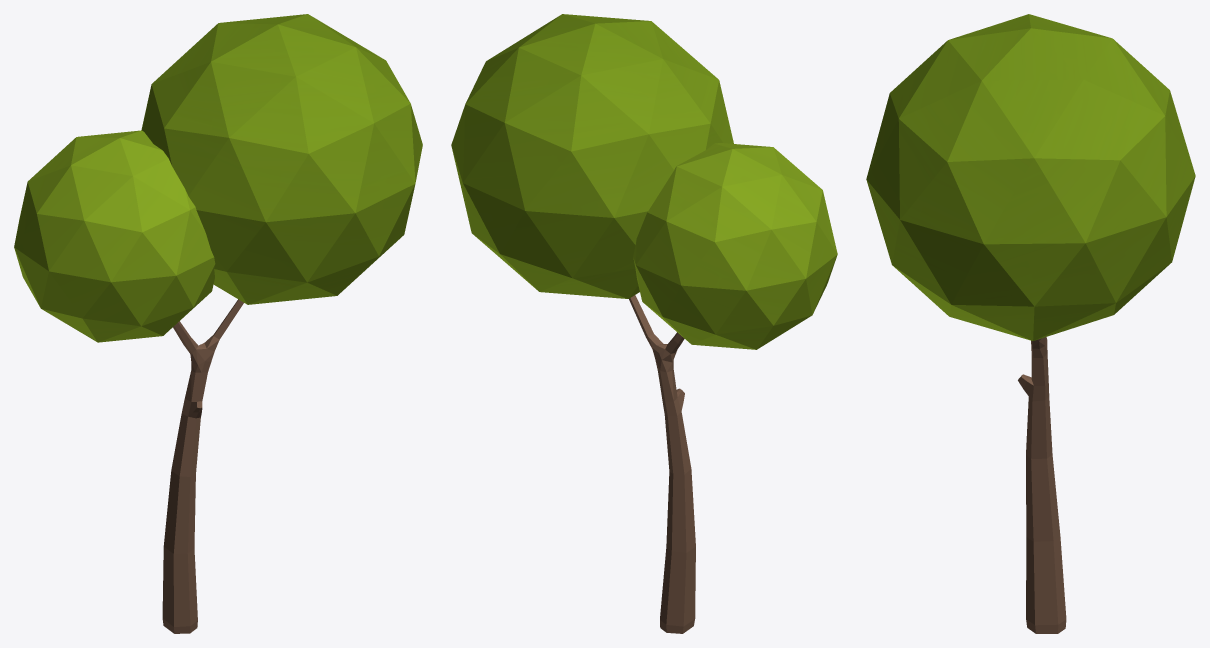
Rendered from tree02.glb.
3 views of the same model, side by side, from view 1: azimuth 30°, elevation 25°; view 2: azimuth 150°, elevation 25°; view 3: azimuth 270°, elevation 25° (orthographic). The views are drawn at different scales.
Visible parts, largest first — view 1: Vert.002; view 2: Vert.002; view 3: Vert.002.
Boxes of the visible parts, left/top/right/bottom form: Vert.002: left=14, top=14, right=422, bottom=633; Vert.002: left=451, top=14, right=837, bottom=633; Vert.002: left=866, top=14, right=1195, bottom=633.
Bounding box in the file's own units: 2.64 × 4.07 × 1.88.
Materials: 1 (1 with a texture image).
